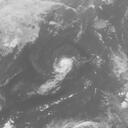cyclone: (49, 56, 79, 83)
